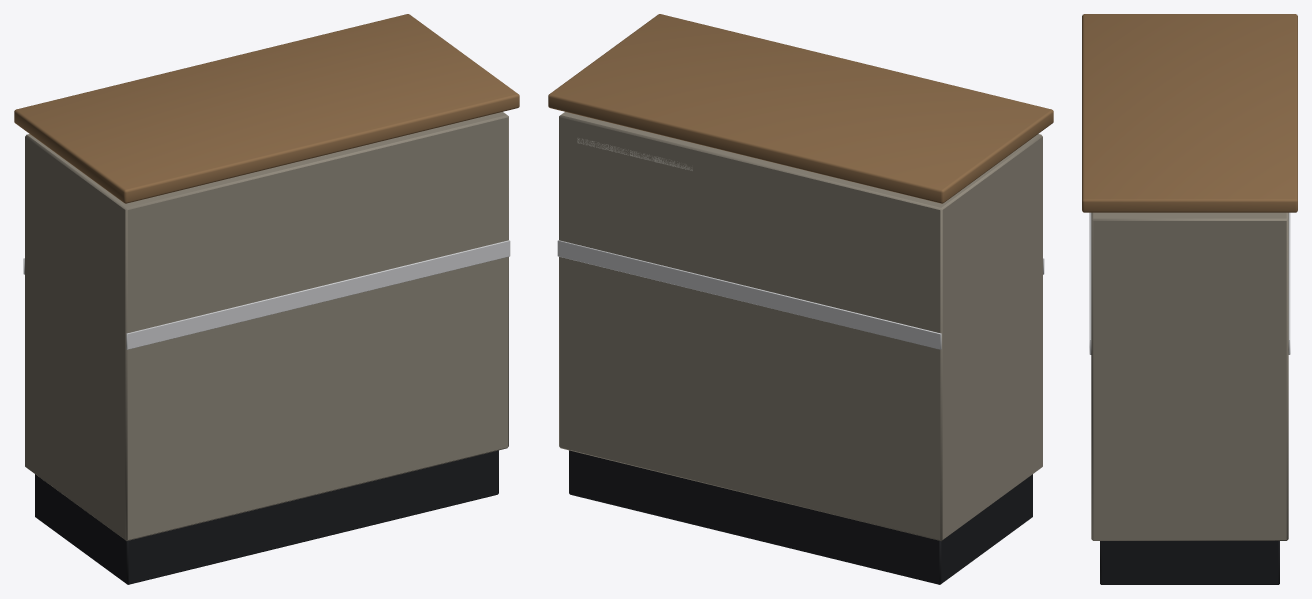
Rendered from kitchenBar.glb.
3 renders of one model, left to right at view 1: azimuth 30°, elevation 25°; view 2: azimuth 150°, elevation 25°; view 3: azimuth 270°, elevation 25°, orthographic. The views are drawn at different scales.
Parts seen in each view (by area): view 1: kitchenBar; view 2: kitchenBar; view 3: kitchenBar.
Part boxes in pixels (left/top/right/bottom): kitchenBar: left=14, top=14, right=519, bottom=584; kitchenBar: left=548, top=14, right=1053, bottom=584; kitchenBar: left=1082, top=14, right=1297, bottom=584.
Bounding box in the file's own units: 1.03 × 1.01 × 0.504.
